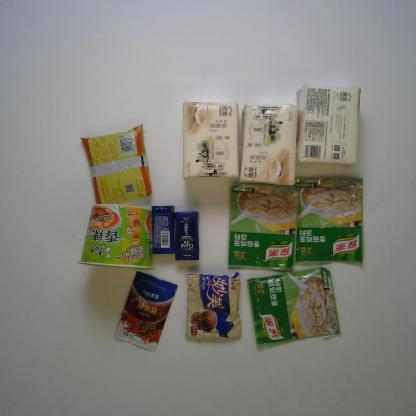Dessert: (180, 270, 246, 343)
Instant Noodles: (78, 196, 156, 273)
Personal Hygiene: (169, 209, 204, 264), (146, 203, 180, 255)
Seasoner: (242, 266, 344, 351), (221, 175, 304, 275), (290, 171, 371, 271), (76, 124, 154, 211), (110, 266, 180, 356)
Tissue: (173, 97, 245, 185), (234, 98, 301, 189), (295, 81, 364, 168)
